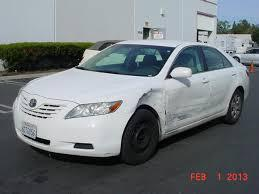fender-dent: (132, 83, 168, 115)
